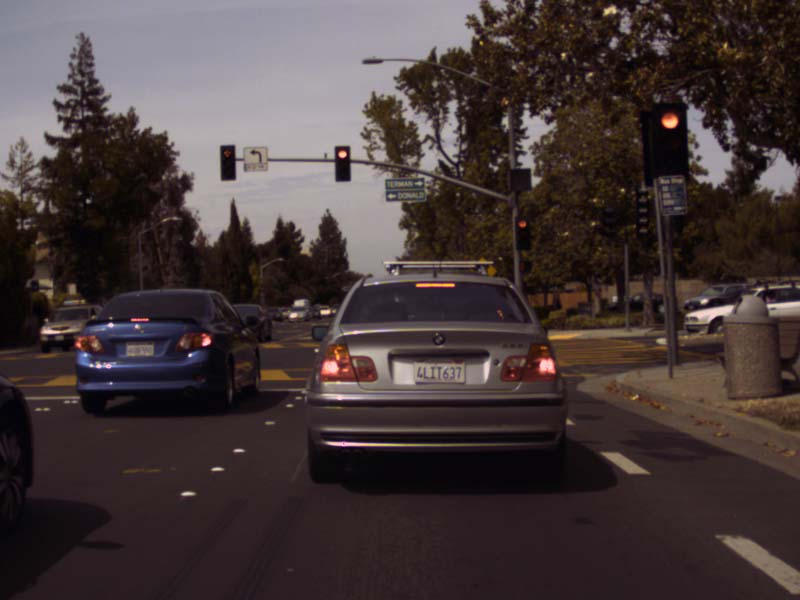Red: (650, 101, 686, 183), (334, 146, 351, 182), (219, 145, 235, 180), (515, 216, 531, 250)
